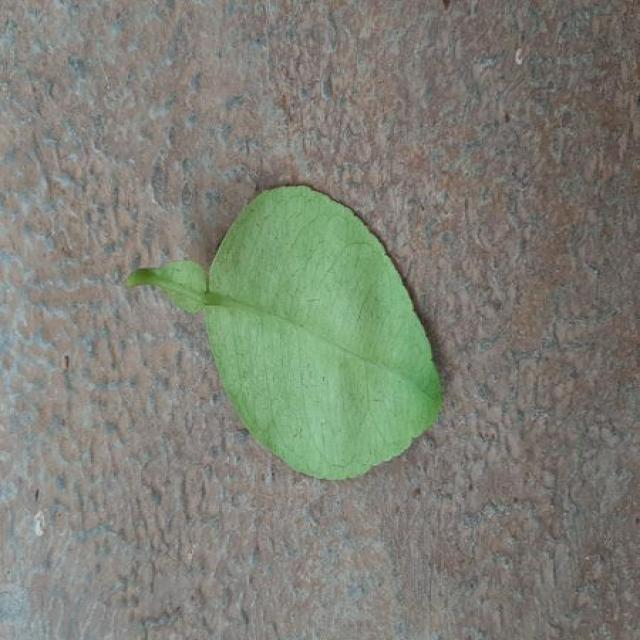lemon: (127, 186, 442, 479)
